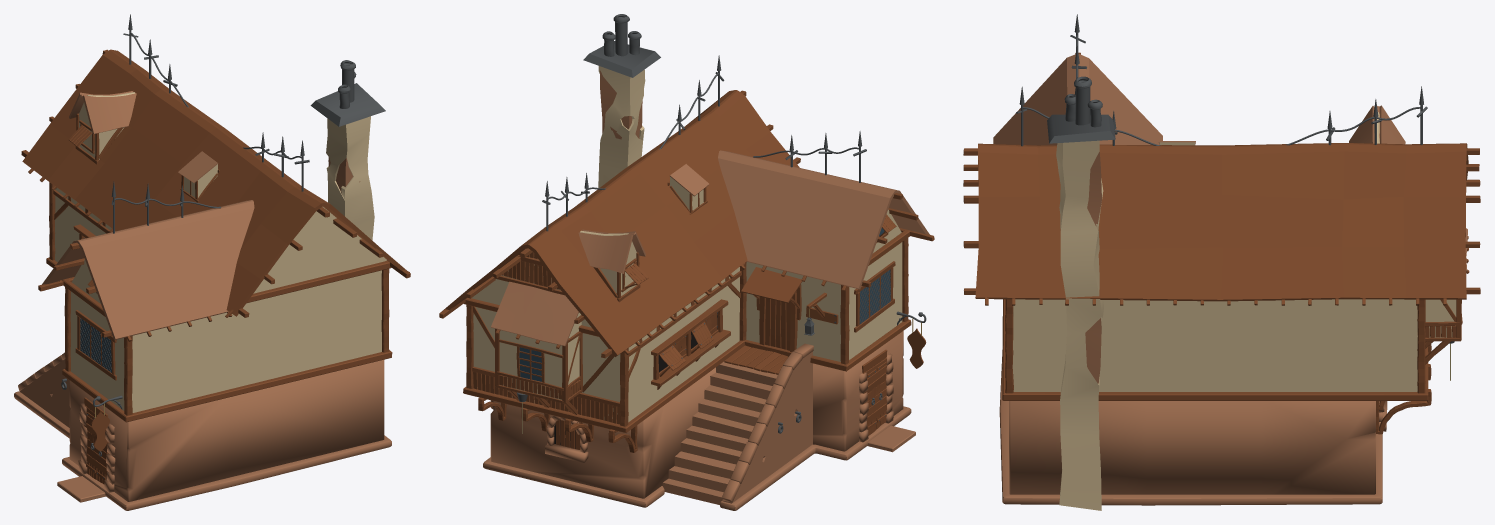
Rendered from medieval-farmhouse.glb.
The picture shows the model from 3 angles, left to right: view 1: azimuth 30°, elevation 25°; view 2: azimuth 150°, elevation 25°; view 3: azimuth 270°, elevation 25°; orthographic projection. The views are drawn at different scales.
Visible parts, largest first — view 1: MedievalFarmhouseBricksGeometry, MedievalFarmhouseWoodGeometry, MedievalFarmhouseStuccoGeometry, MedievalFarmhouseIronCASTGeometry, MedievalFarmhouseWINDOWMEDIEVAL2Geometry, MedievalFarmhouseIron001Geometry; view 2: MedievalFarmhouseBricksGeometry, MedievalFarmhouseWoodGeometry, MedievalFarmhouseStuccoGeometry, MedievalFarmhouseIronCASTGeometry, MedievalFarmhouseWINDOWMEDIEVAL2Geometry, MedievalFarmhouseIron001Geometry; view 3: MedievalFarmhouseWoodGeometry, MedievalFarmhouseStuccoGeometry, MedievalFarmhouseBricksGeometry, MedievalFarmhouseIronCASTGeometry.
Boxes of the visible parts, x1,y1,x2,y2 form: MedievalFarmhouseBricksGeometry: (14, 91, 391, 510); MedievalFarmhouseWoodGeometry: (21, 49, 410, 484); MedievalFarmhouseStuccoGeometry: (55, 92, 386, 412); MedievalFarmhouseIronCASTGeometry: (93, 14, 385, 409); MedievalFarmhouseWINDOWMEDIEVAL2Geometry: (80, 318, 111, 371); MedievalFarmhouseIron001Geometry: (80, 318, 111, 372); MedievalFarmhouseBricksGeometry: (483, 70, 929, 510); MedievalFarmhouseWoodGeometry: (439, 90, 934, 452); MedievalFarmhouseStuccoGeometry: (471, 66, 902, 422); MedievalFarmhouseIronCASTGeometry: (516, 14, 926, 401); MedievalFarmhouseWINDOWMEDIEVAL2Geometry: (519, 228, 890, 381); MedievalFarmhouseIron001Geometry: (859, 269, 890, 323); MedievalFarmhouseWoodGeometry: (963, 52, 1480, 434); MedievalFarmhouseStuccoGeometry: (1012, 112, 1456, 510); MedievalFarmhouseBricksGeometry: (993, 54, 1467, 505); MedievalFarmhouseIronCASTGeometry: (1016, 14, 1454, 343).
Bounding box in the file's own units: 6.73 × 7.67 × 8.5.
